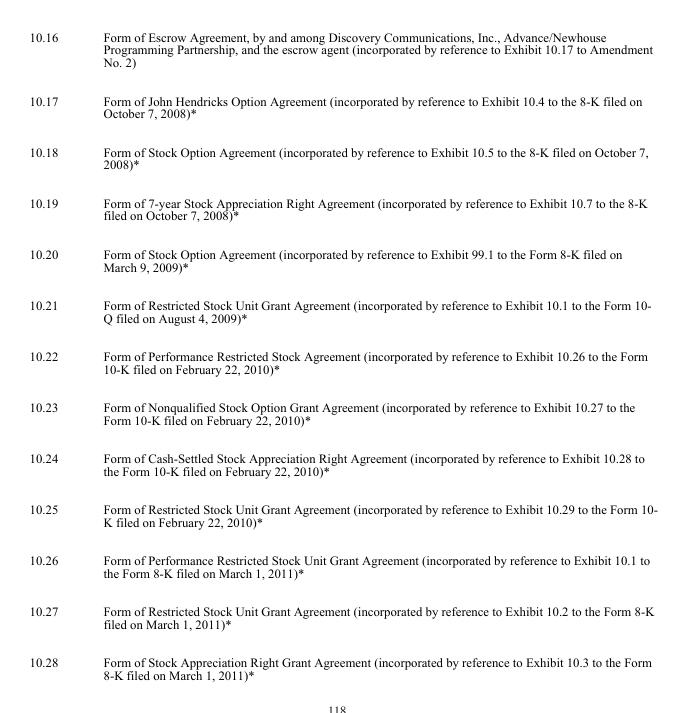table: (28, 29, 656, 682)
table column: (79, 29, 656, 682), (28, 29, 79, 682)
table row: (28, 29, 656, 81), (28, 591, 656, 643), (28, 81, 656, 132), (28, 132, 656, 183), (28, 183, 656, 234), (28, 234, 656, 285), (28, 285, 656, 336), (28, 336, 656, 387), (28, 387, 656, 438), (28, 438, 656, 489), (28, 489, 656, 540), (28, 540, 656, 591), (28, 643, 656, 682)
